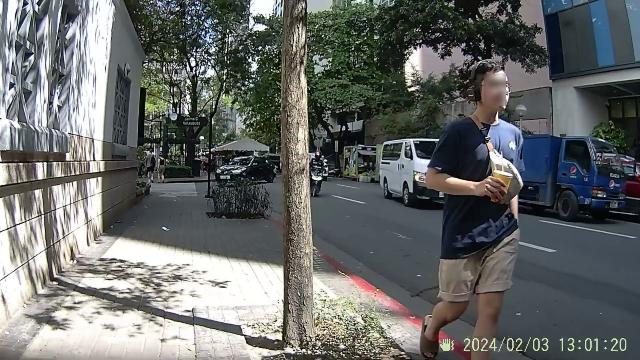street_sign: (174, 106, 218, 192)
tree: (280, 4, 322, 354)
